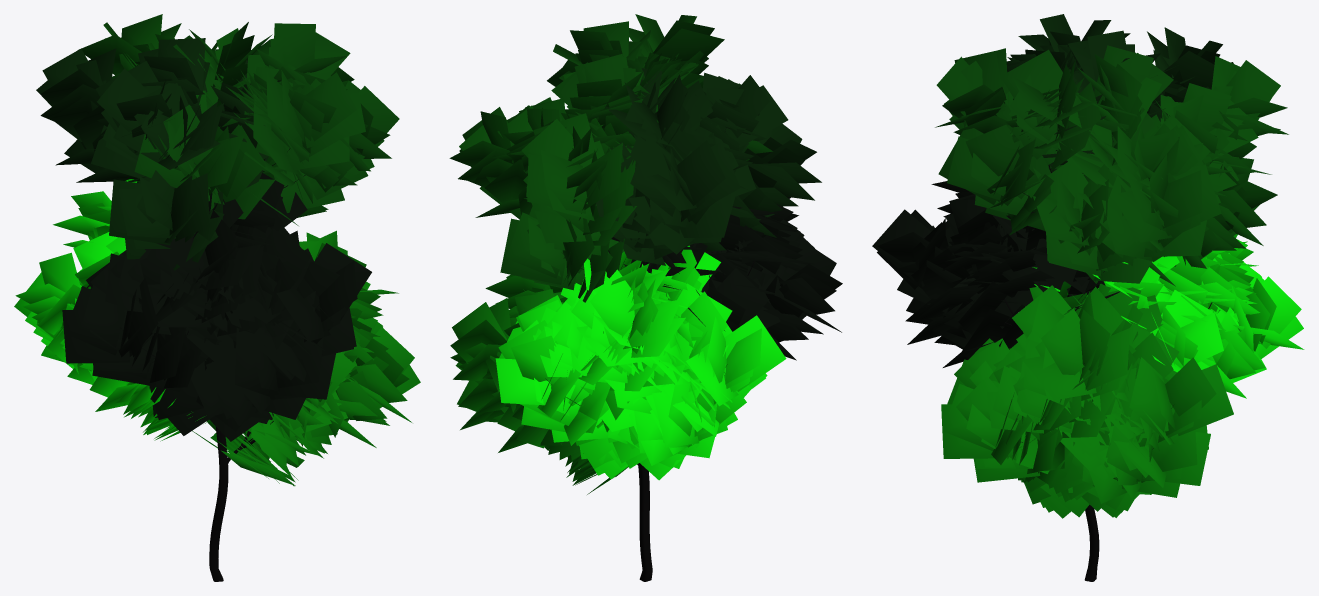
File: Maple_1.fbx
3 views of the same model, side by side, from view 1: azimuth 30°, elevation 25°; view 2: azimuth 150°, elevation 25°; view 3: azimuth 270°, elevation 25° (orthographic). The views are drawn at different scales.
Parts seen in each view (by area): view 1: Maple_1; view 2: Maple_1; view 3: Maple_1.
Boxes of the visible parts, <box> form: Maple_1: <box>14,14,420,581</box>; Maple_1: <box>449,14,842,581</box>; Maple_1: <box>872,14,1304,581</box>.
Bounding box in the file's own units: 590 × 893 × 643.
